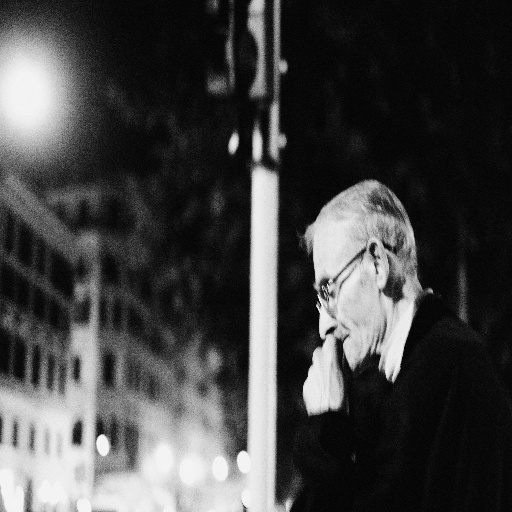hand: (307, 333, 358, 432)
